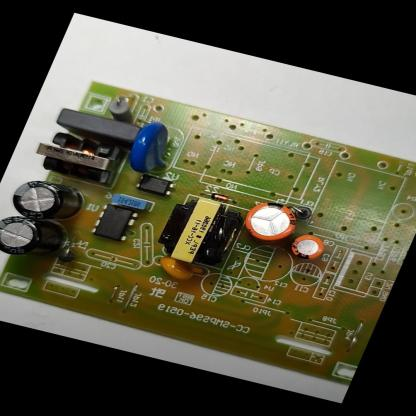Cap1: (236, 196, 307, 247)
Cap2: (288, 230, 331, 261)
Cap3: (4, 174, 89, 228)
Cap4: (0, 210, 76, 266)
MOSFET: (89, 201, 143, 243)
Mov: (120, 117, 188, 180)
Resistor: (105, 94, 146, 125)
Transformer: (151, 193, 244, 271), (28, 124, 130, 186)
